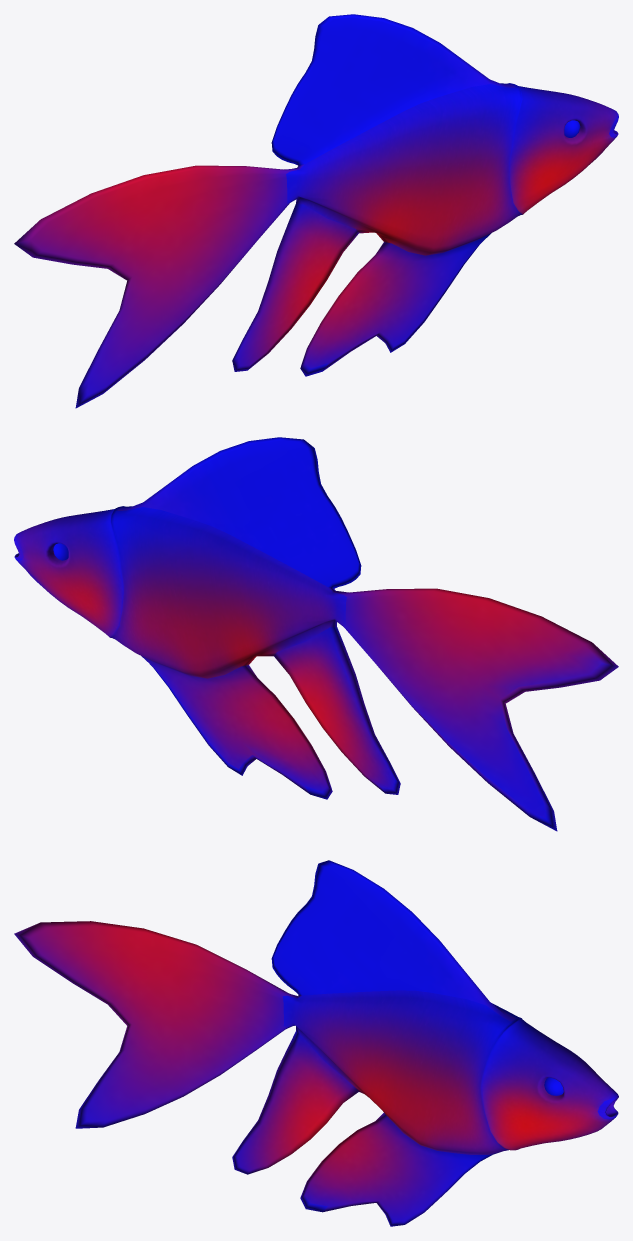
The model's file is color_fish.obj.
The picture shows the model from 3 angles, top to bottom: view 1: azimuth 30°, elevation 25°; view 2: azimuth 150°, elevation 25°; view 3: azimuth 330°, elevation 25°; orthographic projection.
Visible parts, largest first — view 1: Golden_Fish:Box01; view 2: Golden_Fish:Box01; view 3: Golden_Fish:Box01.
Boxes of the visible parts, x1,y1,x2,y2 form: Golden_Fish:Box01: [14, 14, 618, 408]; Golden_Fish:Box01: [14, 437, 618, 831]; Golden_Fish:Box01: [14, 860, 618, 1226].
Bounding box in the file's own units: 79.07 × 44.4 × 6.44.
1 material, 1 textured.
